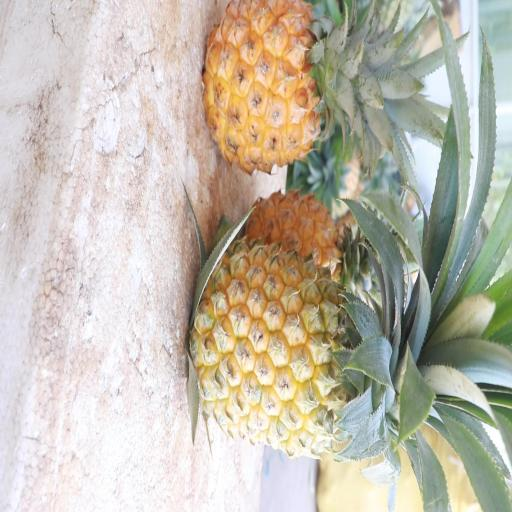Pineapple - v8 v1: (189, 239, 443, 465), (200, 0, 383, 176), (244, 183, 374, 293)
